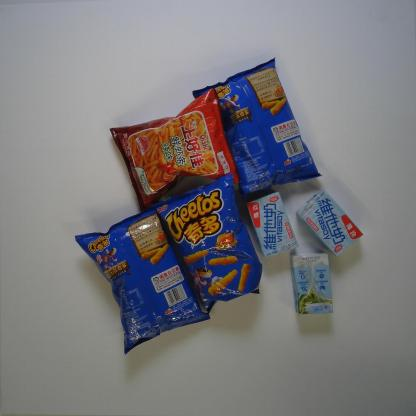Milk: (296, 189, 364, 257), (246, 190, 298, 258), (289, 252, 333, 315)
Puffed Food: (74, 205, 211, 356), (192, 57, 322, 199), (108, 87, 240, 216), (150, 172, 264, 314)
